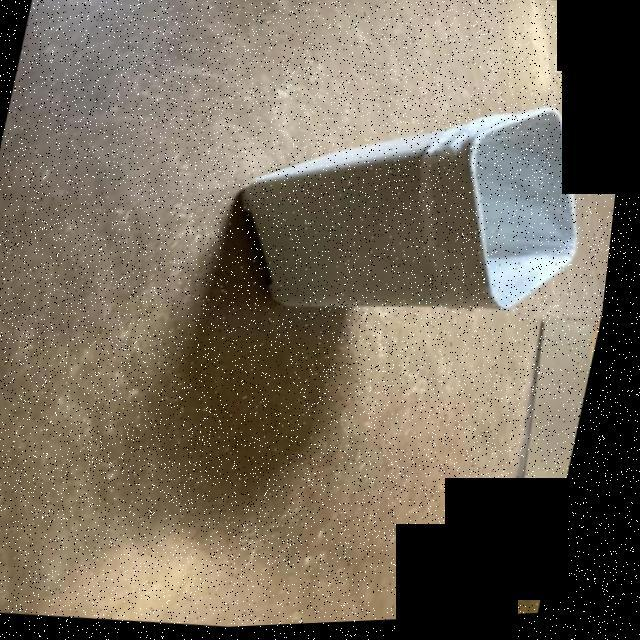bin: (183, 64, 624, 383)
